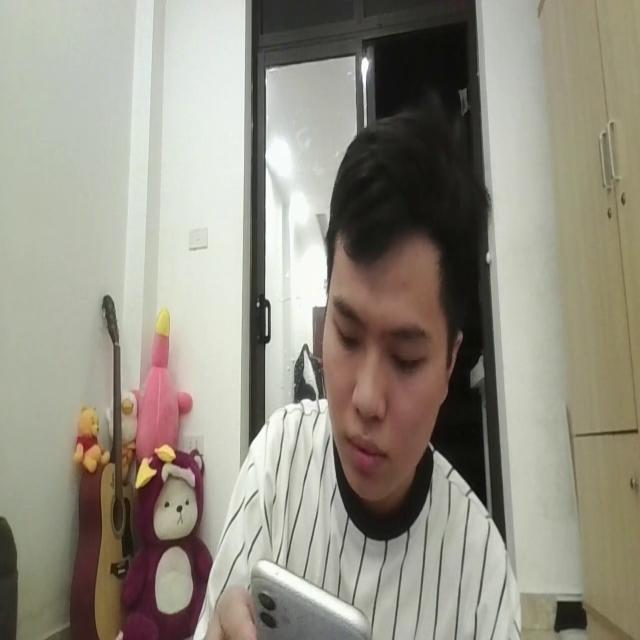phone: (247, 548, 369, 640)
student: (191, 108, 523, 640)
